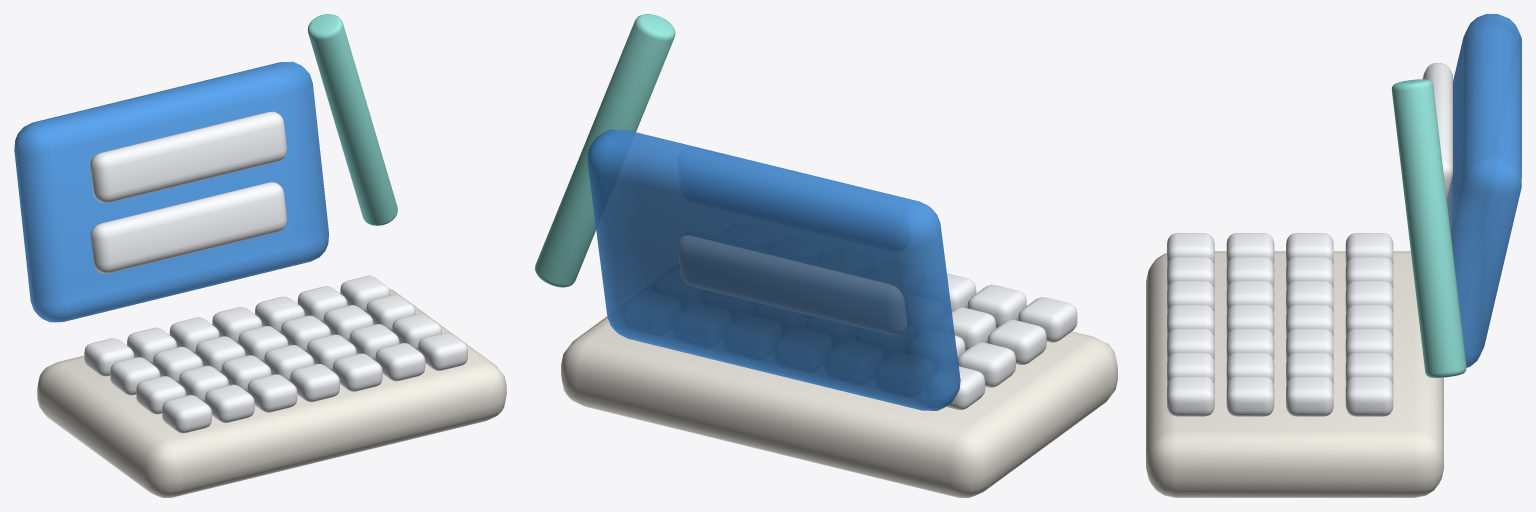
Rendered from module-08.glb.
3 renders of one model, left to right at view 1: azimuth 30°, elevation 25°; view 2: azimuth 150°, elevation 25°; view 3: azimuth 270°, elevation 25°, orthographic. The views are drawn at different scales.
Visible parts, largest first — view 1: panel_back, keypad, field_tile0, field_tile1, pencil_body, pkey_0_0, pkey_0_2, pkey_0_5, pkey_0_4, pkey_0_6, pkey_0_3, pkey_0_1 (+21 smaller); view 2: panel_back, keypad, field_tile1, pencil_body, pkey_0_0, pkey_1_0, pkey_2_0, pkey_0_1, pkey_1_1, pkey_3_0, pkey_0_2; view 3: keypad, panel_back, pencil_body, field_tile0, pkey_1_6, pkey_3_6, pkey_0_6, pkey_2_6, pkey_1_2, pkey_1_5, pkey_3_2, pkey_3_5 (+20 smaller).
Boxes of the visible parts, <box> form: panel_back: <box>14,61,328,322</box>; keypad: <box>37,288,506,497</box>; field_tile0: <box>90,111,286,202</box>; field_tile1: <box>90,182,286,273</box>; pencil_body: <box>307,14,397,225</box>; pkey_0_0: <box>162,395,211,433</box>; pkey_0_2: <box>247,374,297,412</box>; pkey_0_5: <box>375,343,425,381</box>; pkey_0_4: <box>332,353,382,391</box>; pkey_0_6: <box>418,332,467,370</box>; pkey_0_3: <box>290,364,339,402</box>; pkey_0_1: <box>205,384,254,422</box>; panel_back: <box>587,129,960,410</box>; keypad: <box>561,316,1117,497</box>; field_tile1: <box>677,235,906,334</box>; pencil_body: <box>535,14,675,287</box>; pkey_0_0: <box>1018,297,1077,342</box>; pkey_1_0: <box>987,319,1046,364</box>; pkey_2_0: <box>958,342,1015,387</box>; pkey_0_1: <box>967,284,1026,328</box>; pkey_1_1: <box>952,307,995,350</box>; pkey_3_0: <box>945,366,985,409</box>; pkey_0_2: <box>947,273,976,311</box>; keypad: <box>1146,251,1443,497</box>; panel_back: <box>1447,14,1521,367</box>; pencil_body: <box>1391,79,1466,377</box>; field_tile0: <box>1422,62,1452,199</box>; pkey_1_6: <box>1226,376,1274,416</box>; pkey_3_6: <box>1345,376,1393,416</box>; pkey_0_6: <box>1167,376,1214,416</box>; pkey_2_6: <box>1286,376,1333,416</box>; pkey_1_2: <box>1226,280,1274,312</box>; pkey_1_5: <box>1226,352,1274,383</box>; pkey_3_2: <box>1345,280,1393,312</box>; pkey_3_5: <box>1345,352,1393,383</box>.
Size of the model in its own units: 1.64 by 1.44 by 1.26.
